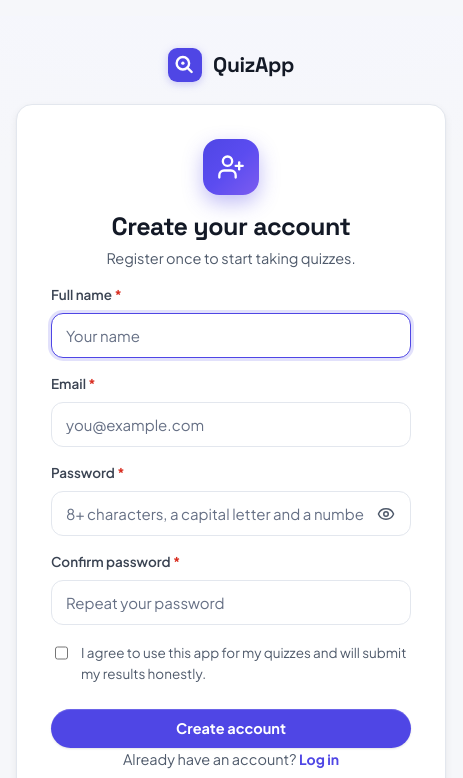
Test: RegisterPage › shows a mismatch error when passwords differ
The image size is (463, 778).
Type "Ali B" into the field labelled "Full name *". click: [231, 336]
box: left=51, top=313, right=411, bottom=358
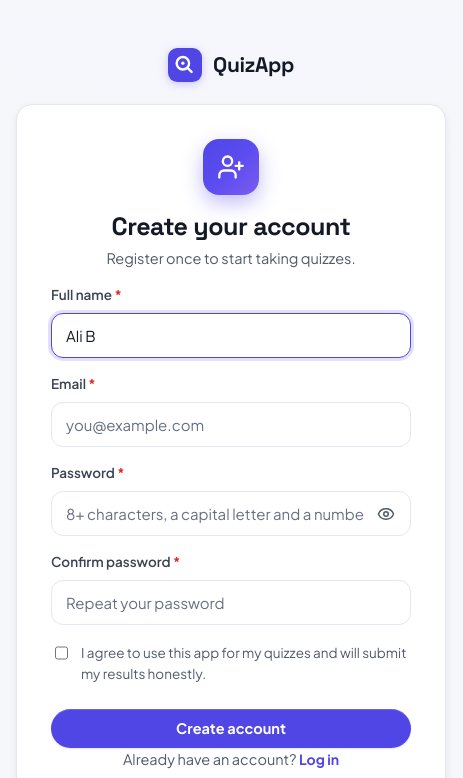
Type "a@b.com" into the field labelled "Email *". click: [231, 425]
box: left=51, top=402, right=411, bottom=447
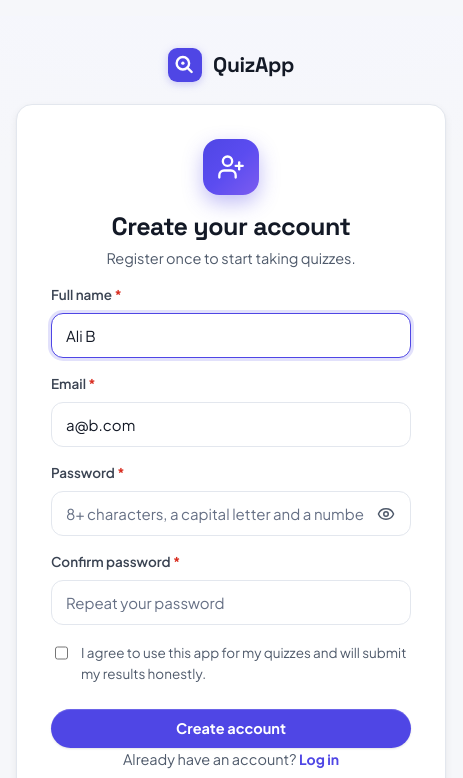
Type "Passw0rd!" into the password field labelled "Password *". click: [231, 514]
box: left=51, top=491, right=411, bottom=536
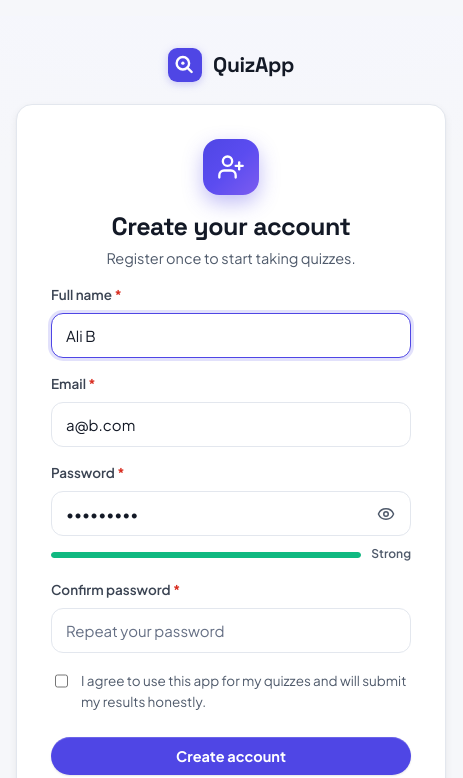
Type "nope" into the password field labelled "Confirm password *". click: [231, 630]
box: left=51, top=608, right=411, bottom=653
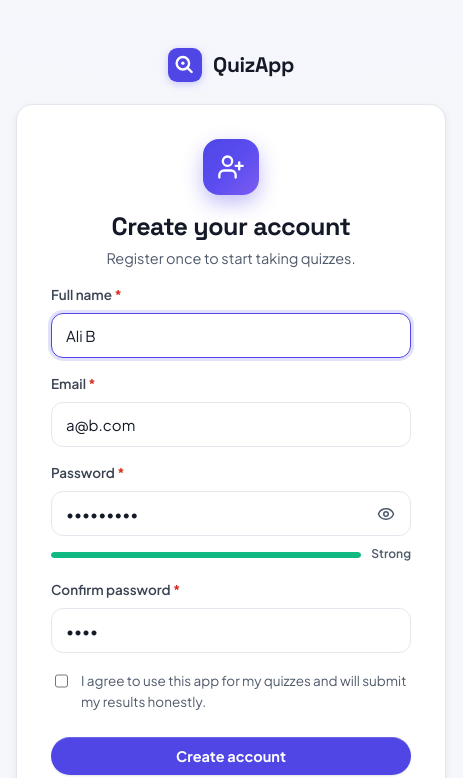
Click the checkbox labelled "I agree to use this app". click: [62, 681]
box: left=55, top=673, right=68, bottom=689
(page scrolled)
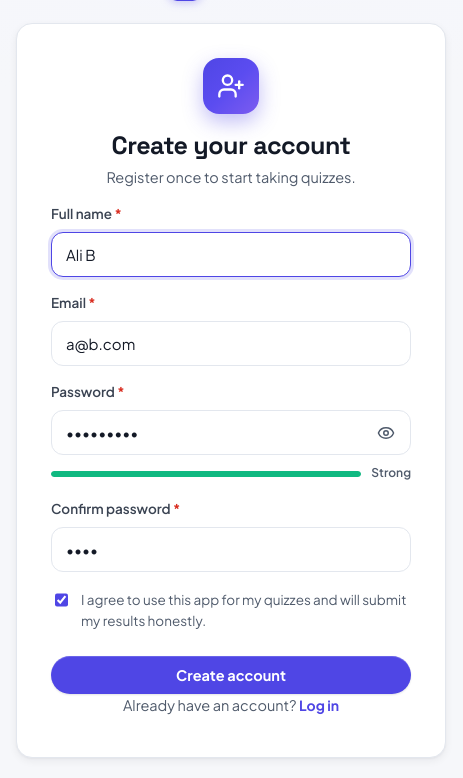
Submit the form
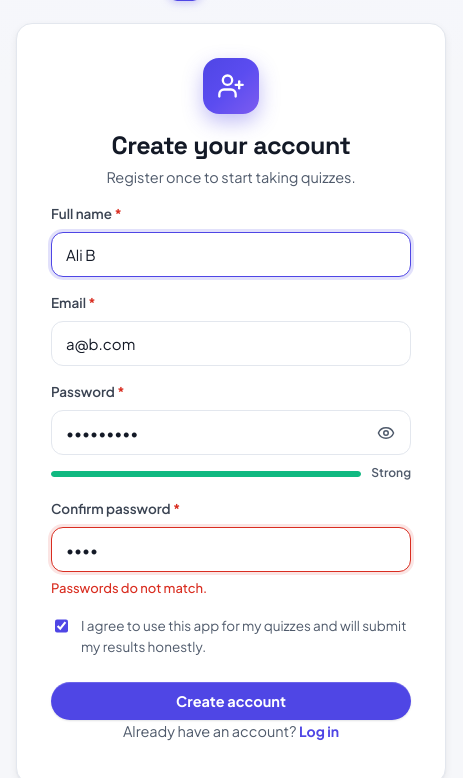
Now the text "Passwords do not match." is shown, box left=51, top=580, right=207, bottom=596
